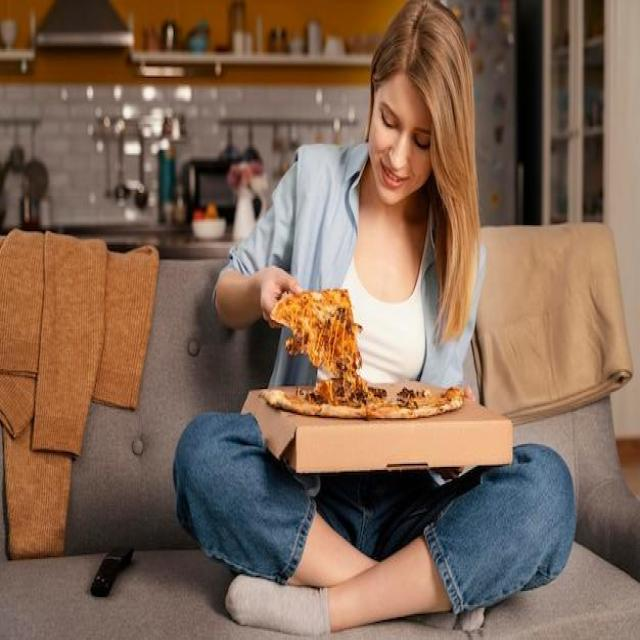pizza: (270, 289, 364, 378), (261, 379, 465, 418)
